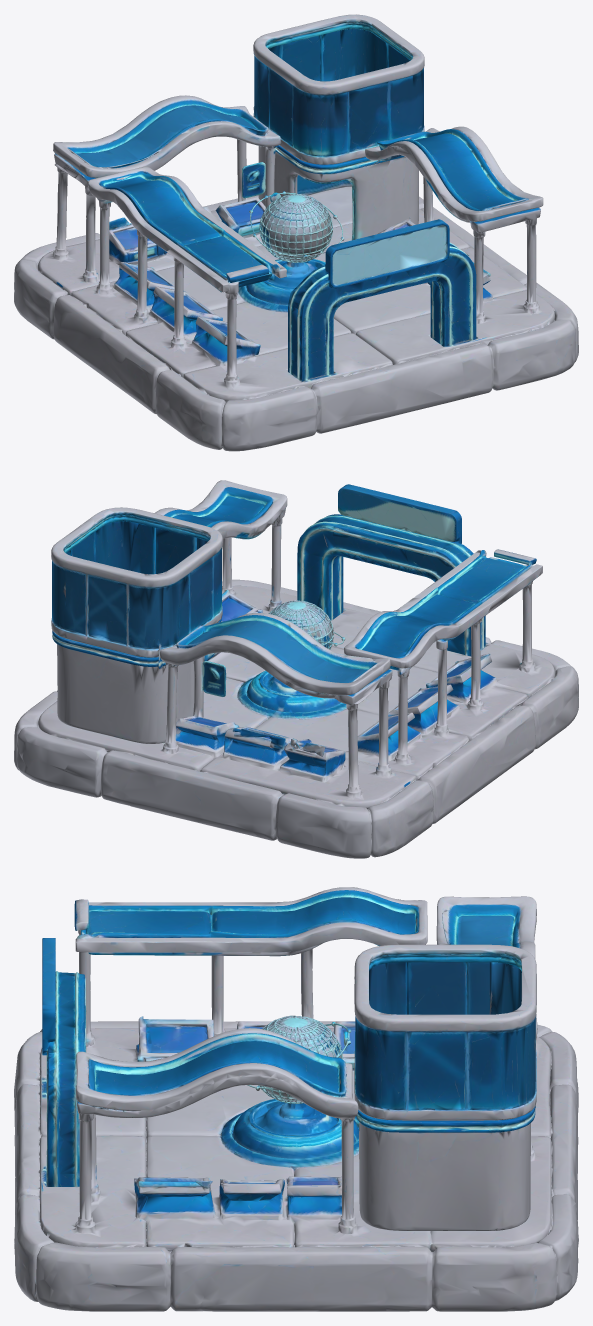
File: bld-base-market.glb
The picture shows the model from 3 angles, top to bottom: view 1: azimuth 30°, elevation 25°; view 2: azimuth 150°, elevation 25°; view 3: azimuth 270°, elevation 25°; orthographic projection. The views are drawn at different scales.
Size of the model in its own units: 1.9 by 1.04 by 1.9.
1 material, 1 textured.
